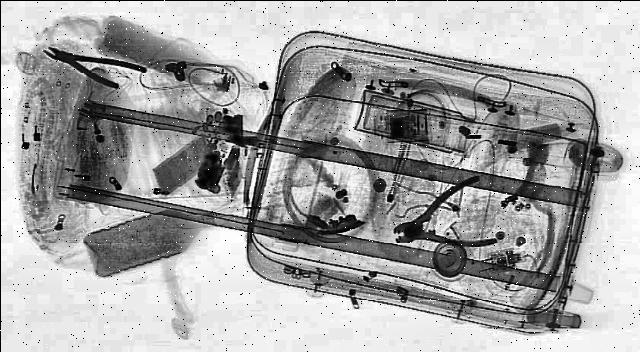Pliers: (358, 174, 532, 261), (29, 36, 149, 89)
